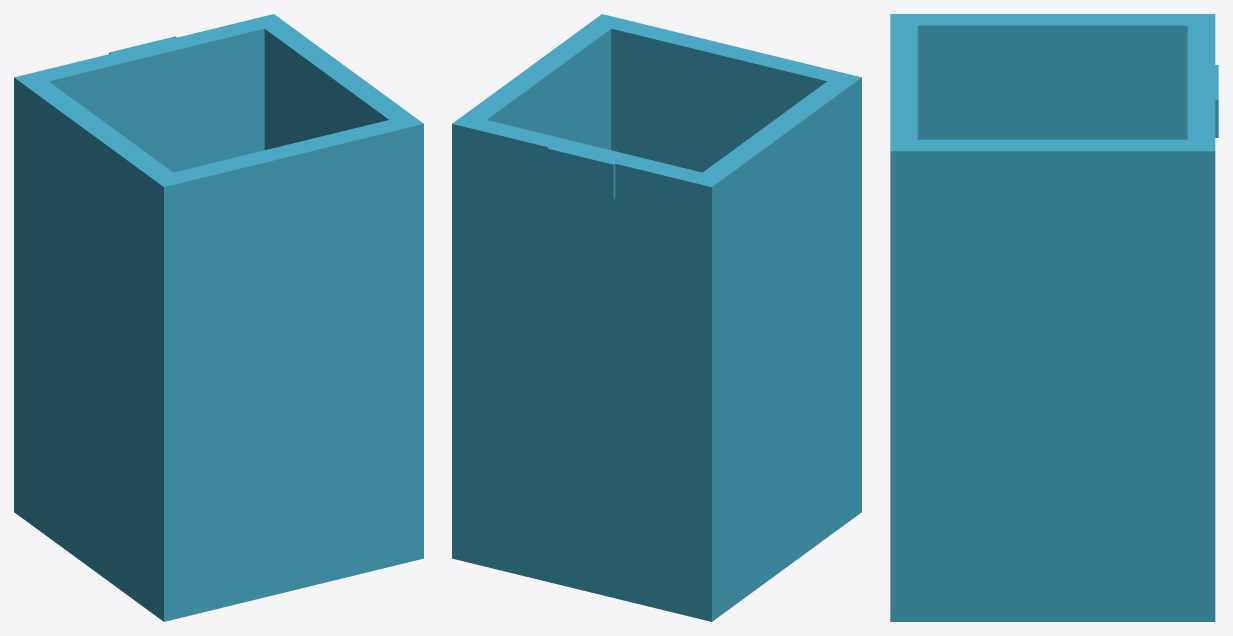
Rendered from Itr_Trashcan2_Body_05.FBX.
The picture shows the model from 3 angles, left to right: view 1: azimuth 30°, elevation 25°; view 2: azimuth 150°, elevation 25°; view 3: azimuth 270°, elevation 25°; orthographic projection. The views are drawn at different scales.
Visible parts, largest first — view 1: Itr_Trashcan2_Body_05; view 2: Itr_Trashcan2_Body_05; view 3: Itr_Trashcan2_Body_05.
Part boxes in pixels (box(x1,y1,x2,y2)): Itr_Trashcan2_Body_05: box(14, 14, 423, 621); Itr_Trashcan2_Body_05: box(452, 14, 861, 621); Itr_Trashcan2_Body_05: box(890, 14, 1218, 621).
Bounding box in the file's own units: 14.85 × 23.74 × 15.01.
